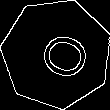O_W: (25, 25, 88, 82)
